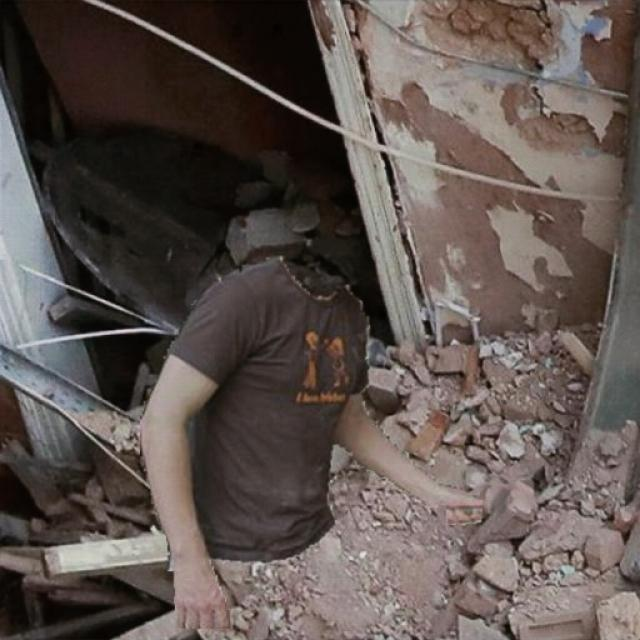Person in Rubble: (140, 256, 481, 628)
